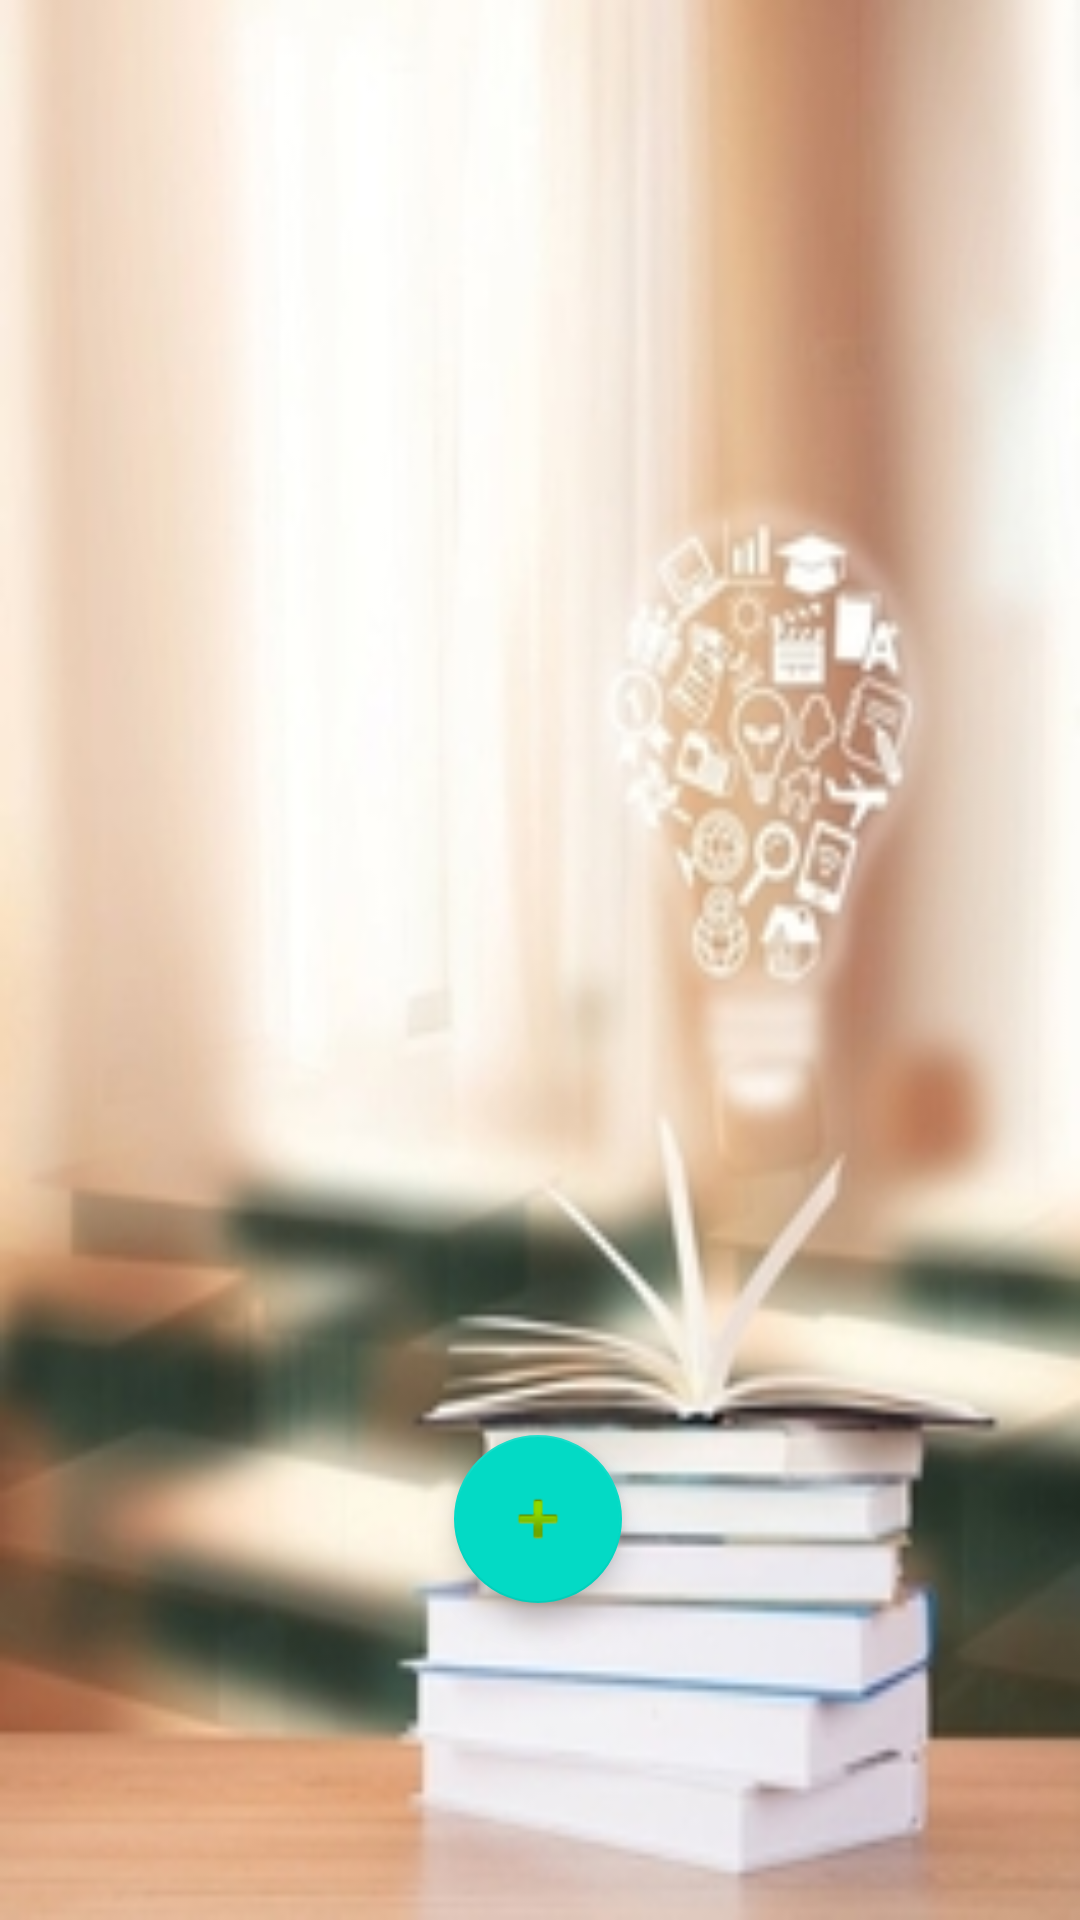

Icons on this 1080w x 1920h Android screen, each with the point to tap as point (x, y):
add: point (538, 1519)
